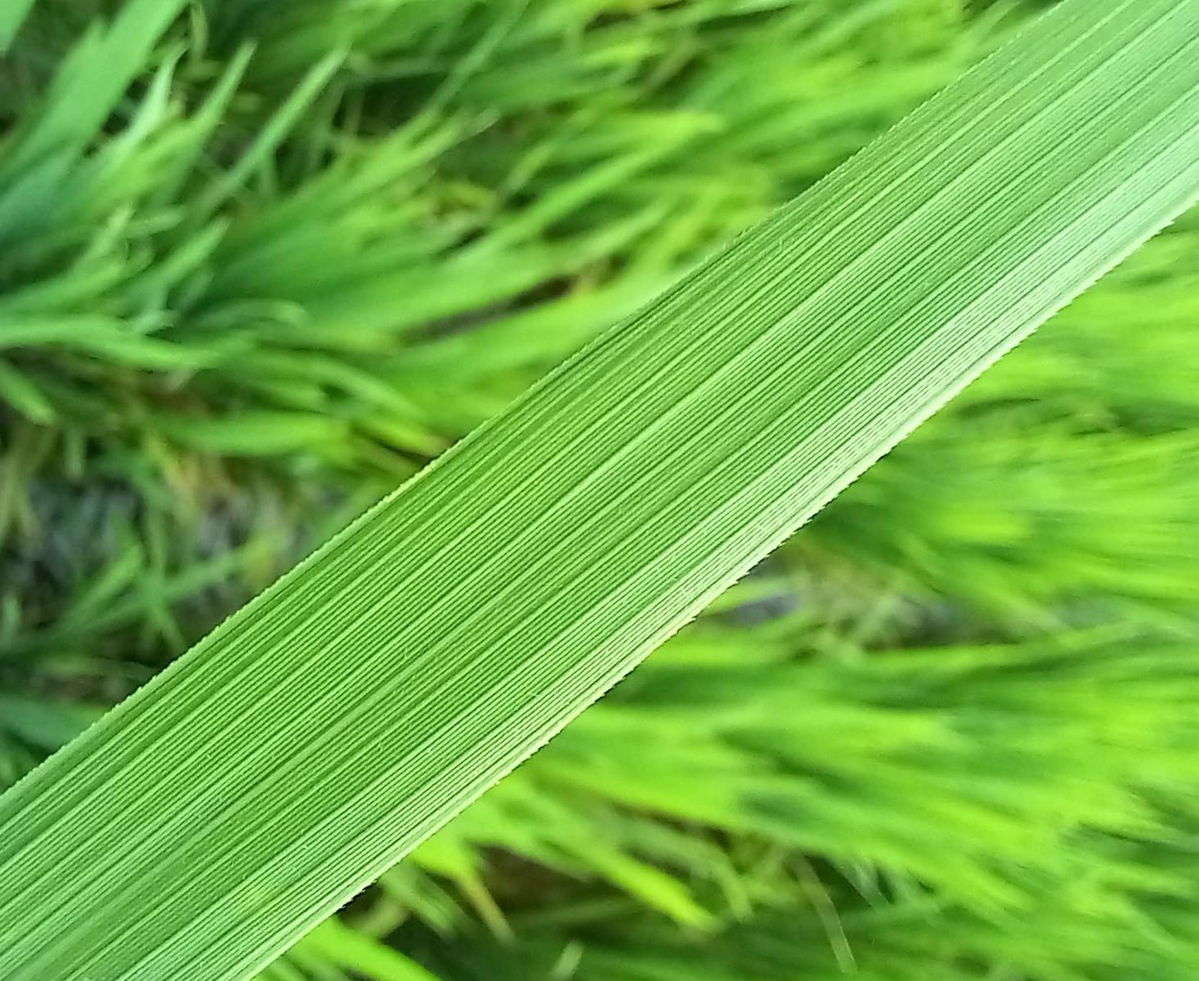Healthy: (1, 0, 1198, 980)
